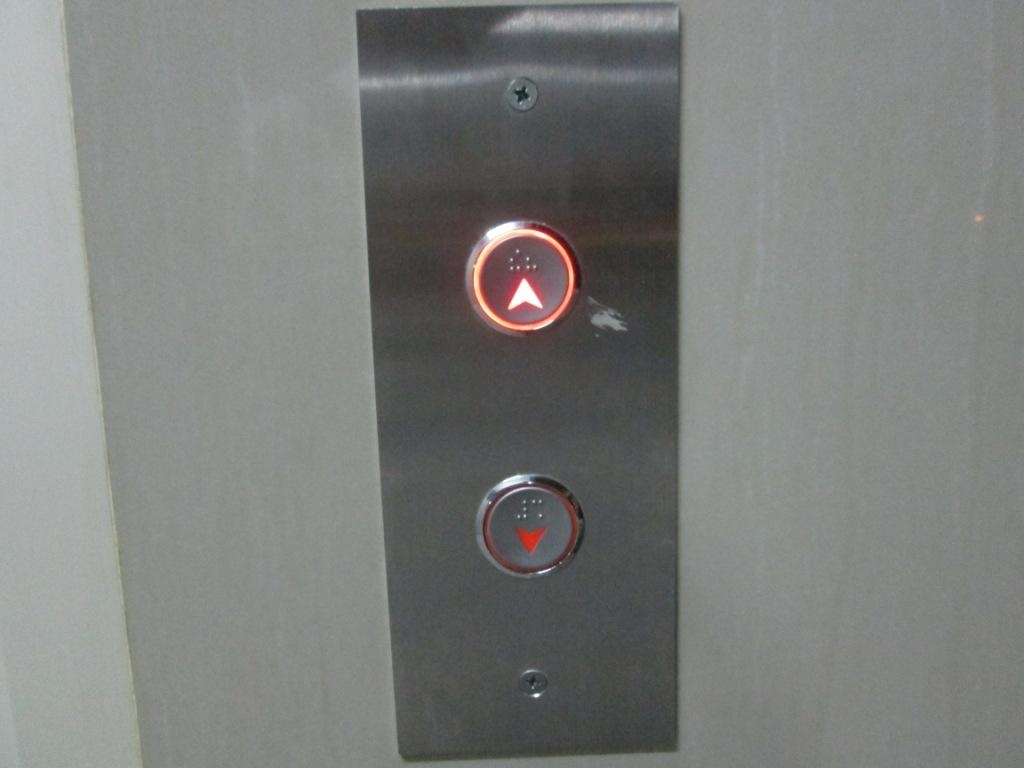down: (474, 473, 583, 579)
up: (466, 220, 582, 339)
